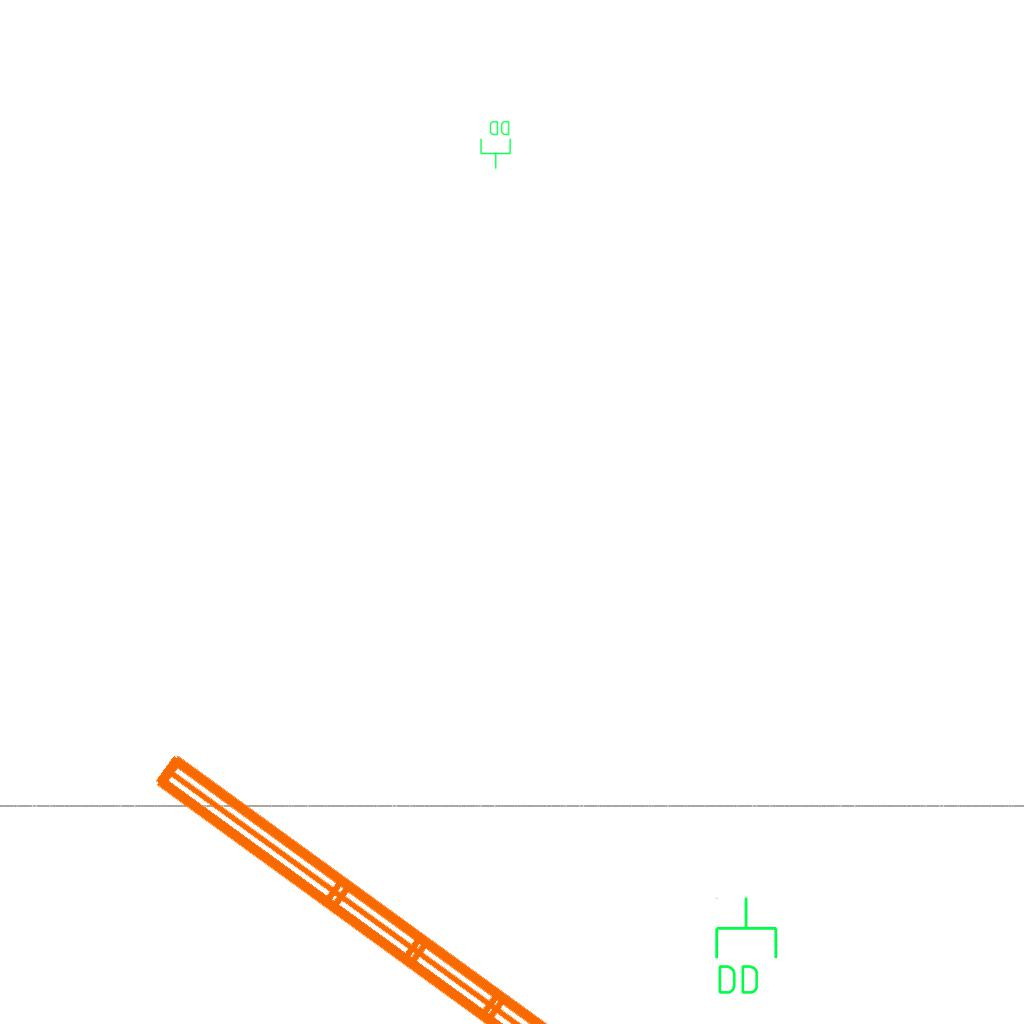Ambulanz_Pendelleuchte_LED: (137, 696, 831, 1024)
Datenanschluss_zweifach: (711, 895, 780, 998), (479, 119, 513, 170)
